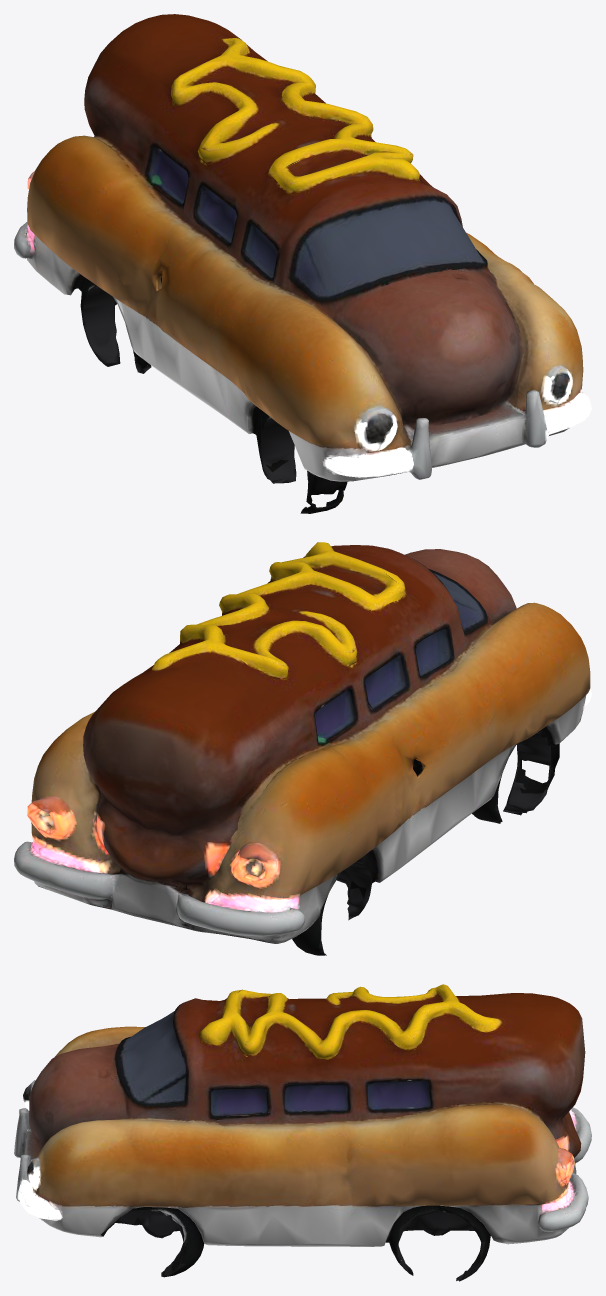
Rendered from wiener.glb.
3 views of the same model, one above another, from view 1: azimuth 30°, elevation 25°; view 2: azimuth 150°, elevation 25°; view 3: azimuth 270°, elevation 25° (orthographic). The views are drawn at different scales.
Visible parts, largest first — view 1: wiener; view 2: wiener; view 3: wiener.
Part boxes in pixels (x1,y1,x2,y2): wiener: (14, 14, 591, 513); wiener: (14, 542, 591, 955); wiener: (14, 984, 591, 1281).
Bounding box in the file's own units: 2.01 × 1.88 × 4.1.
2 materials, 1 textured.
